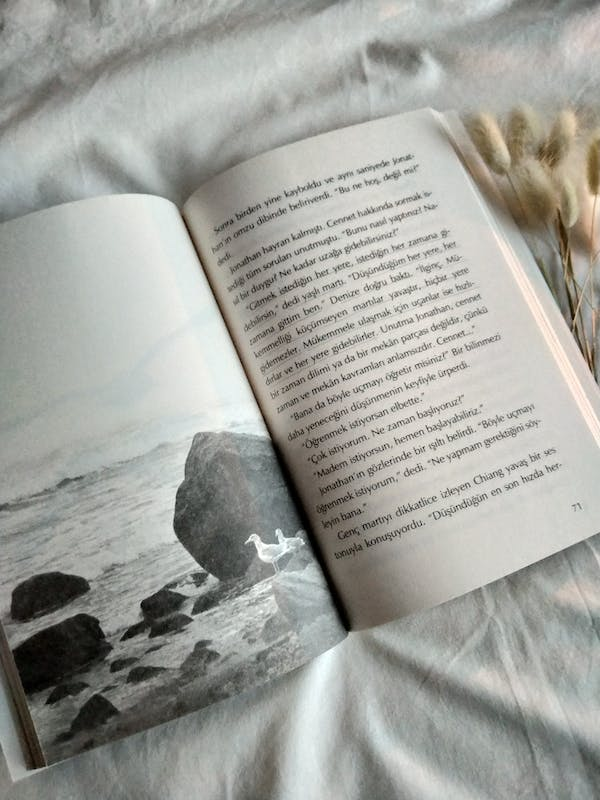book: (6, 104, 600, 773)
